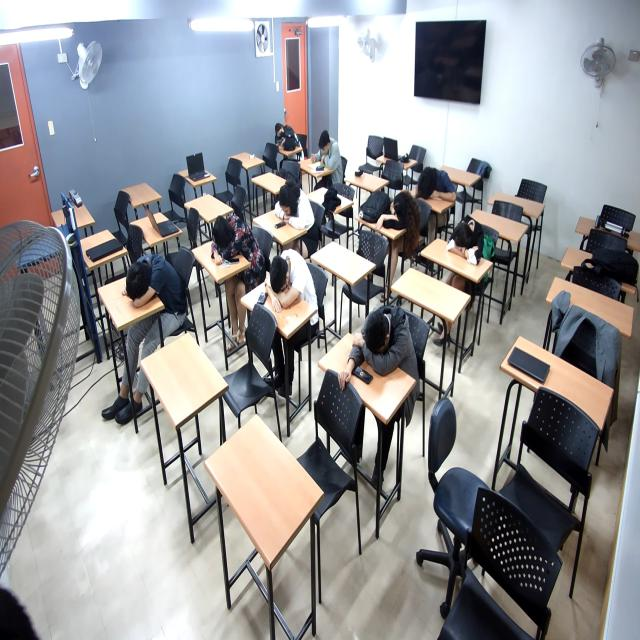sleep: (352, 307, 421, 376), (125, 255, 189, 311), (264, 249, 319, 309), (206, 214, 262, 267), (447, 217, 489, 272), (273, 186, 318, 234), (376, 194, 425, 238), (415, 166, 460, 205), (274, 124, 305, 155)
